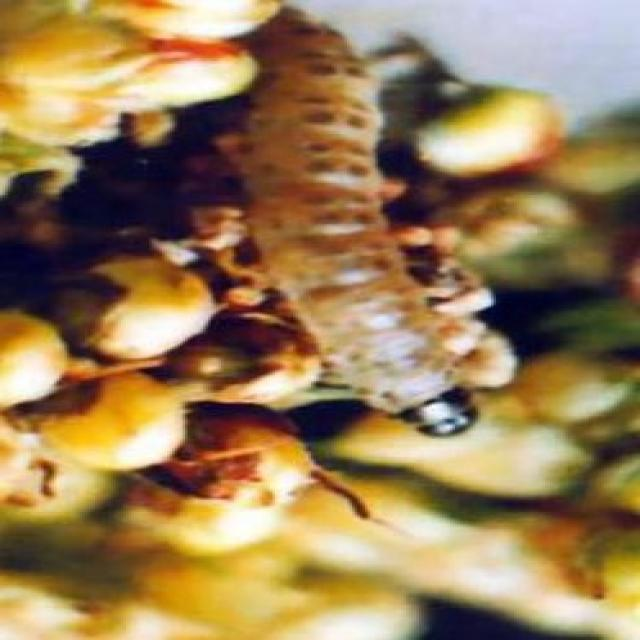peach borer: (240, 11, 482, 448)
